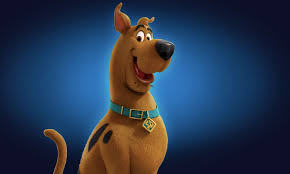scooby: (42, 2, 176, 174)
